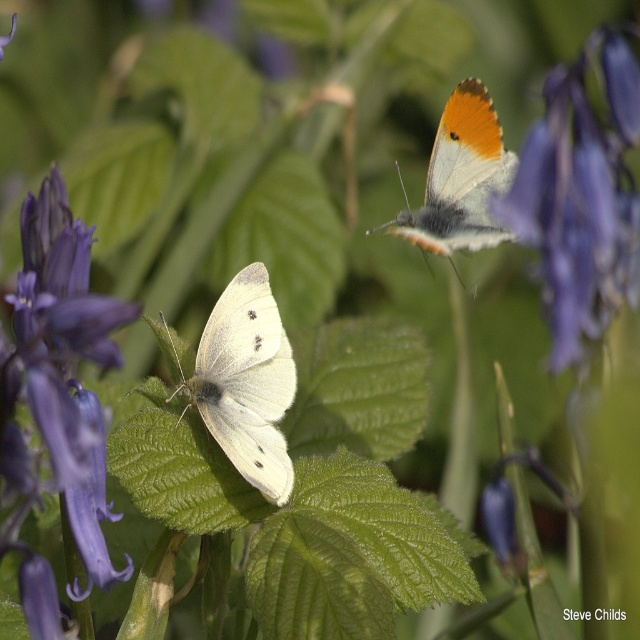Butterfly: (158, 260, 302, 513), (378, 62, 532, 285)
